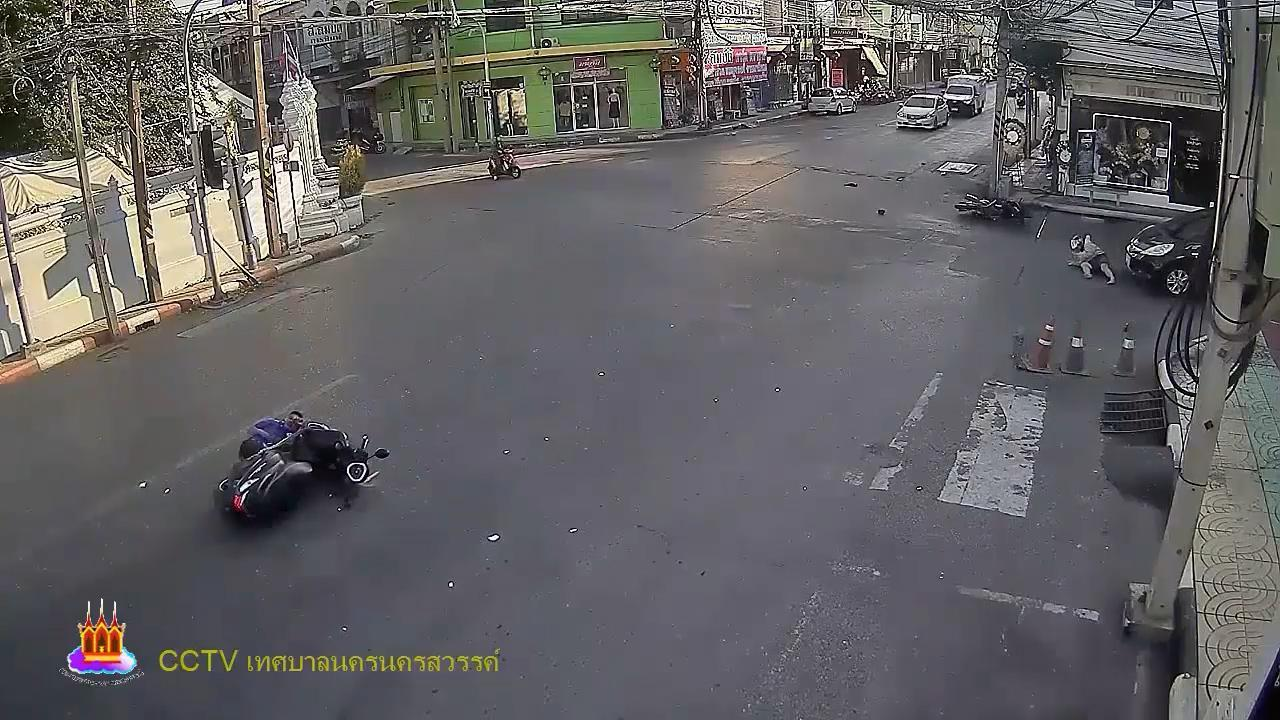accident: (1067, 229, 1118, 289)
